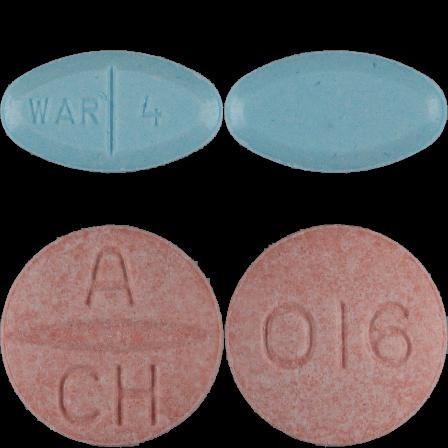54868-4402: (0, 0, 224, 224)
